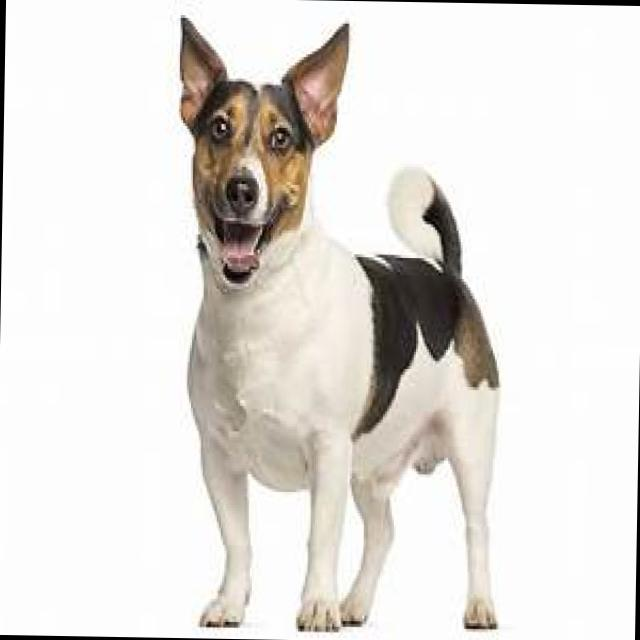animal: (167, 12, 511, 635)
